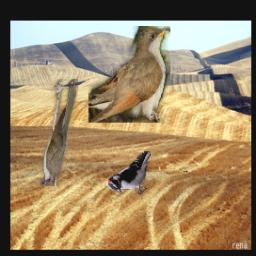Cuckoo: (89, 26, 171, 123), (40, 79, 78, 186)
Woodpecker: (107, 151, 152, 194)
